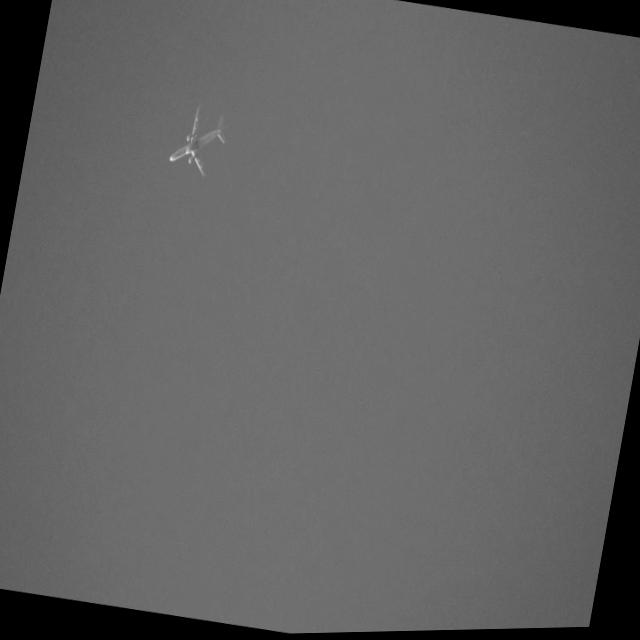aeroplane: (164, 95, 236, 190)
